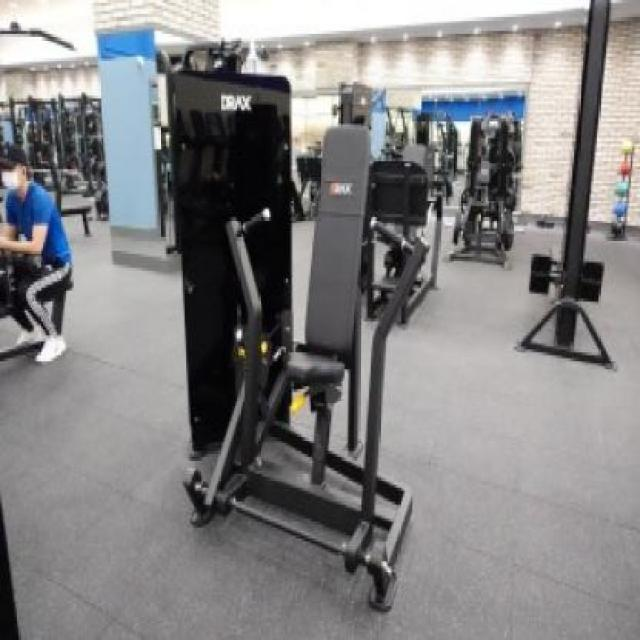Chest Press machine: (154, 62, 452, 616)
